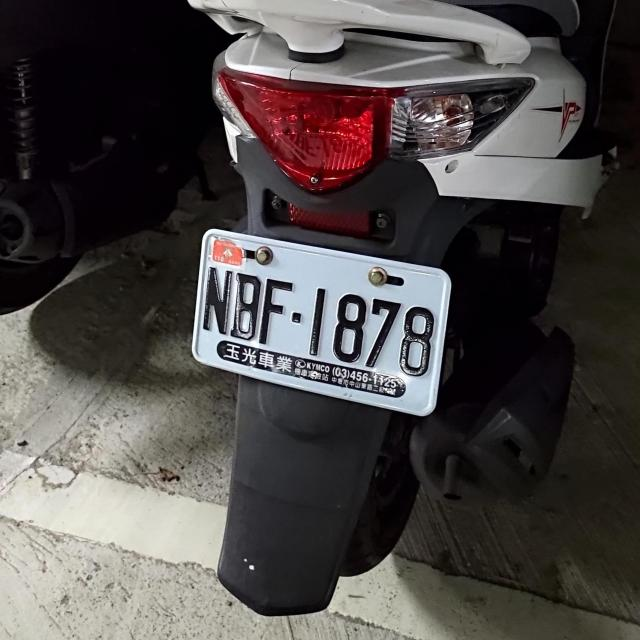W: (182, 229, 461, 414)
